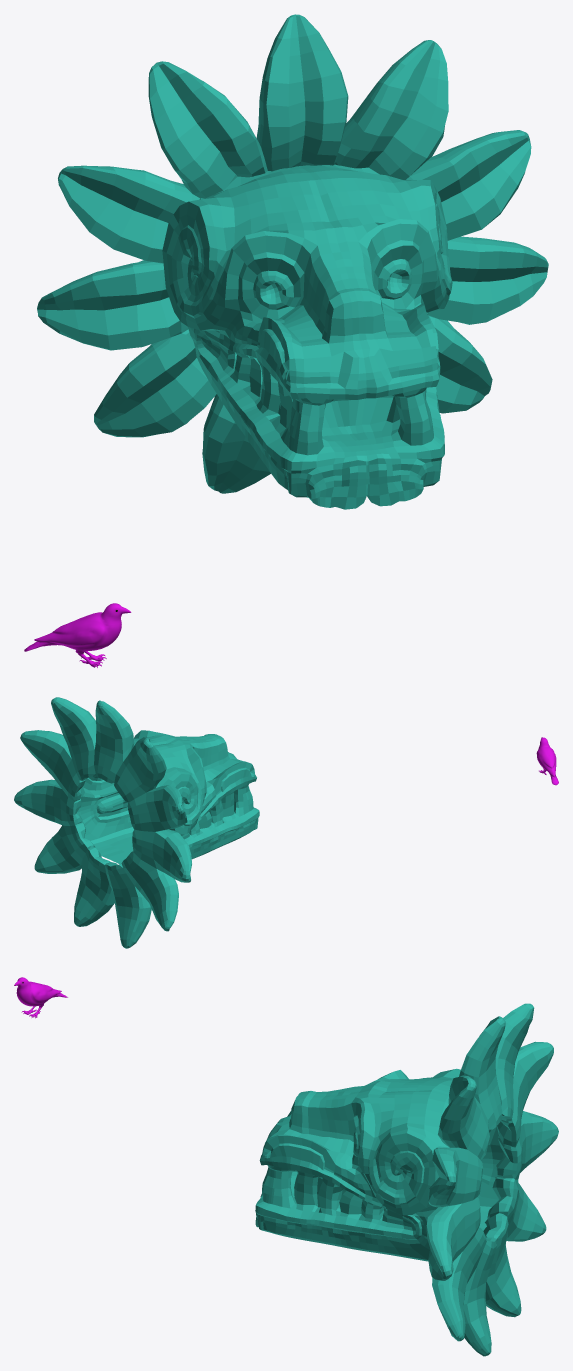
The model's file is coatl.glb.
3 renders of one model, top to bottom at view 1: azimuth 30°, elevation 25°; view 2: azimuth 150°, elevation 25°; view 3: azimuth 270°, elevation 25°, orthographic. The views are drawn at different scales.
Visible parts, largest first — view 1: Cabeza_plumas, Box001; view 2: Cabeza_plumas, Box001; view 3: Cabeza_plumas, Box001.
Boxes of the visible parts, x1,y1,x2,y2 form: Cabeza_plumas: (37, 14, 548, 509); Box001: (24, 603, 131, 667); Cabeza_plumas: (14, 697, 259, 948); Box001: (536, 737, 558, 785); Cabeza_plumas: (255, 1003, 558, 1356); Box001: (14, 977, 67, 1018).
Bounding box in the file's own units: 24.89 × 13.91 × 21.51.
Materials: 3 (1 with a texture image).
